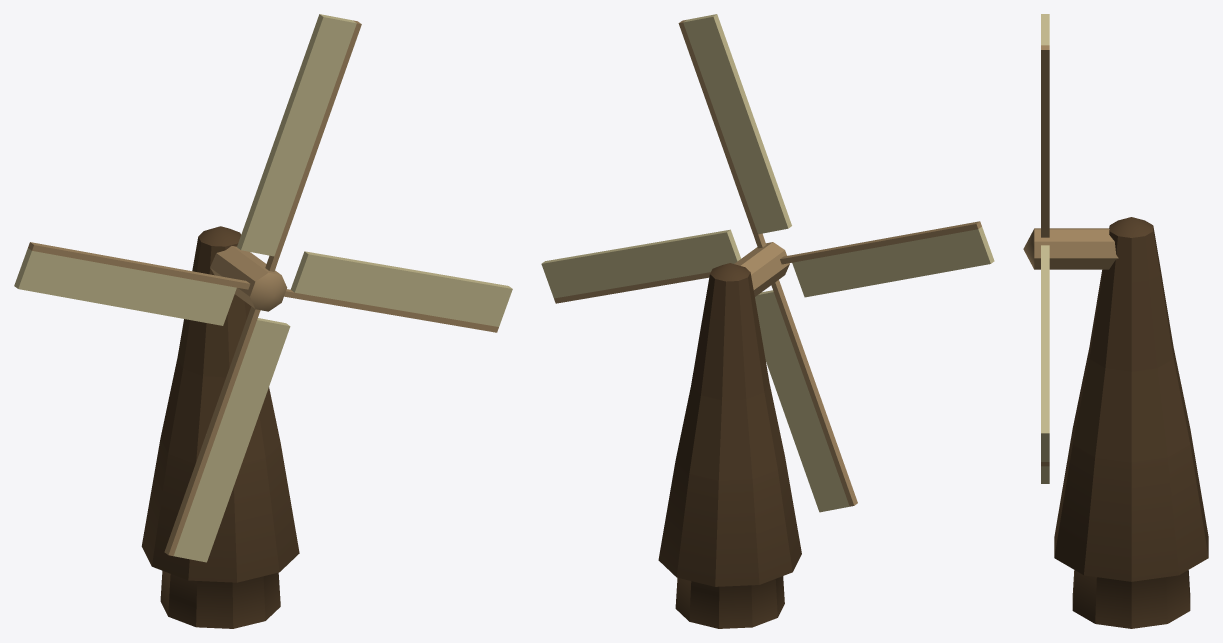
File: gBWindMill_v01.fbx
3 views of the same model, side by side, from view 1: azimuth 30°, elevation 25°; view 2: azimuth 150°, elevation 25°; view 3: azimuth 270°, elevation 25° (orthographic). The views are drawn at different scales.
Parts seen in each view (by area): view 1: windMillFan_01, windMillBody_01; view 2: windMillFan_01, windMillBody_01; view 3: windMillBody_01, windMillFan_01.
Part boxes in pixels (<box>): windMillFan_01: <box>14,14,512,562</box>; windMillBody_01: <box>141,226,299,628</box>; windMillFan_01: <box>541,14,994,512</box>; windMillBody_01: <box>658,263,801,628</box>; windMillBody_01: <box>1054,217,1208,628</box>; windMillFan_01: <box>1023,14,1118,483</box>.
Size of the model in its own units: 1906 by 2228 by 605.
